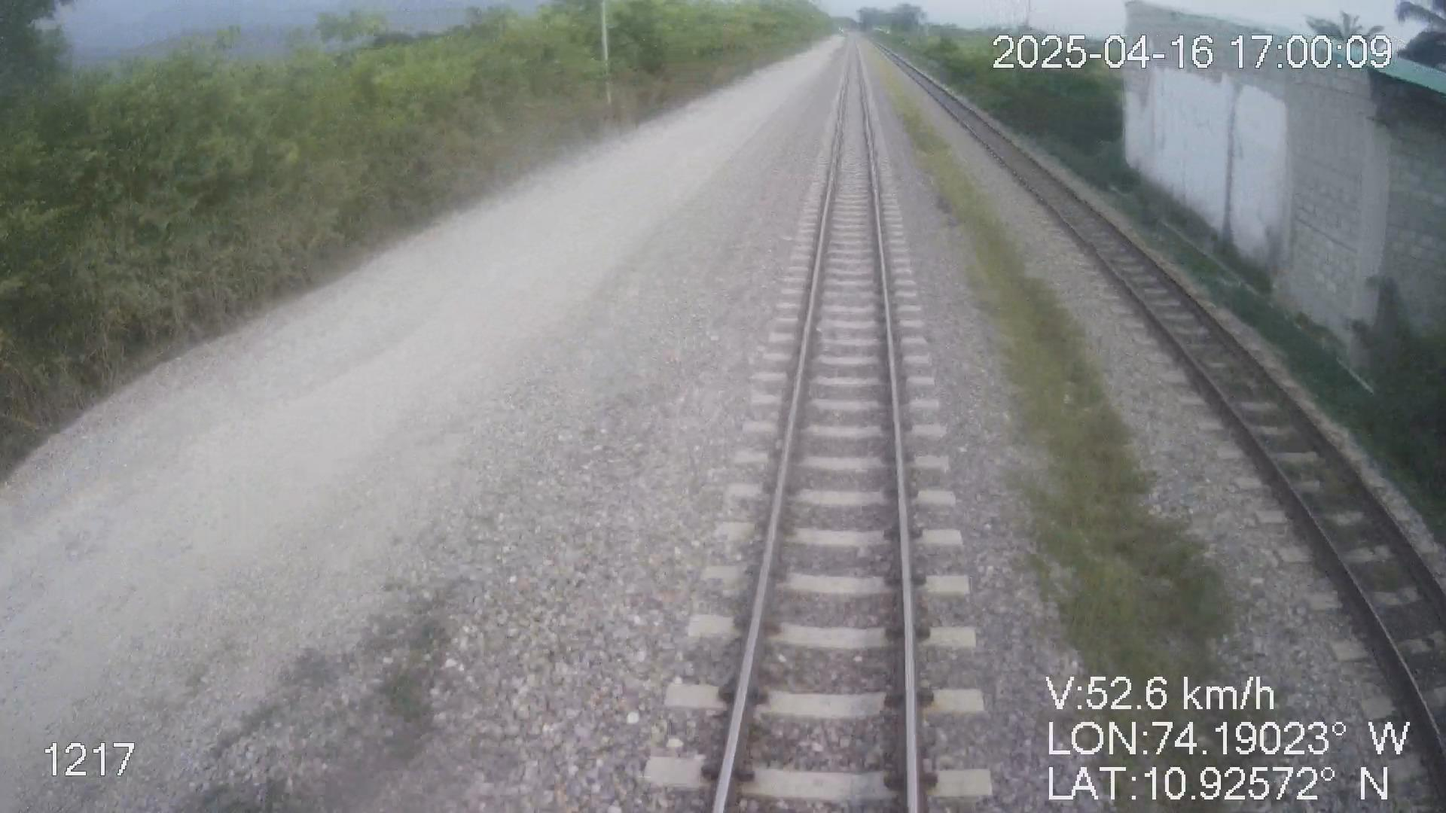Pasto: (0, 0, 831, 477), (862, 11, 1138, 192)
